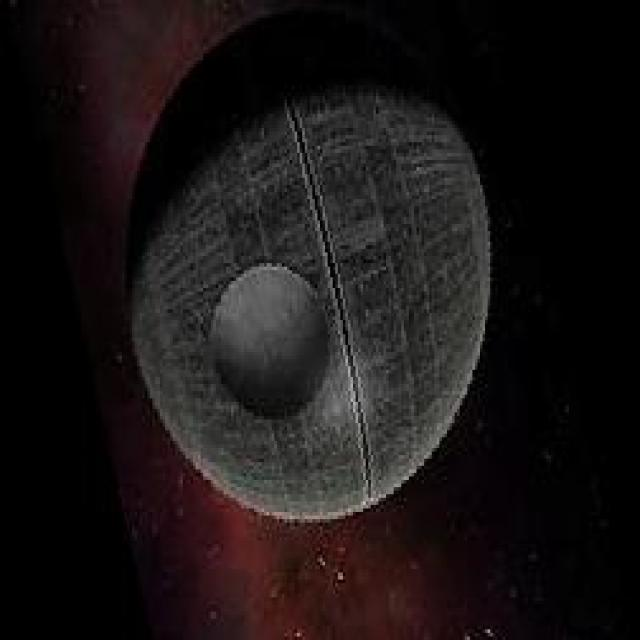Death Star: (122, 64, 495, 526)
